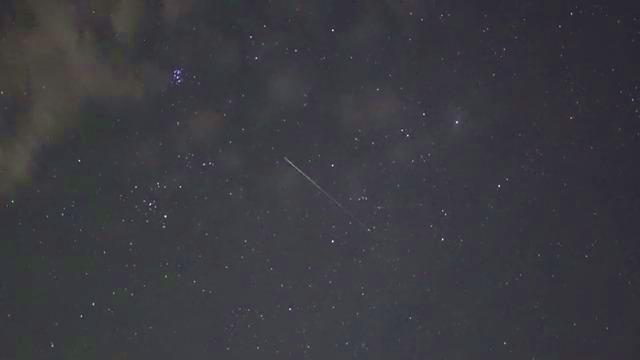meteorite: (282, 155, 344, 205)
